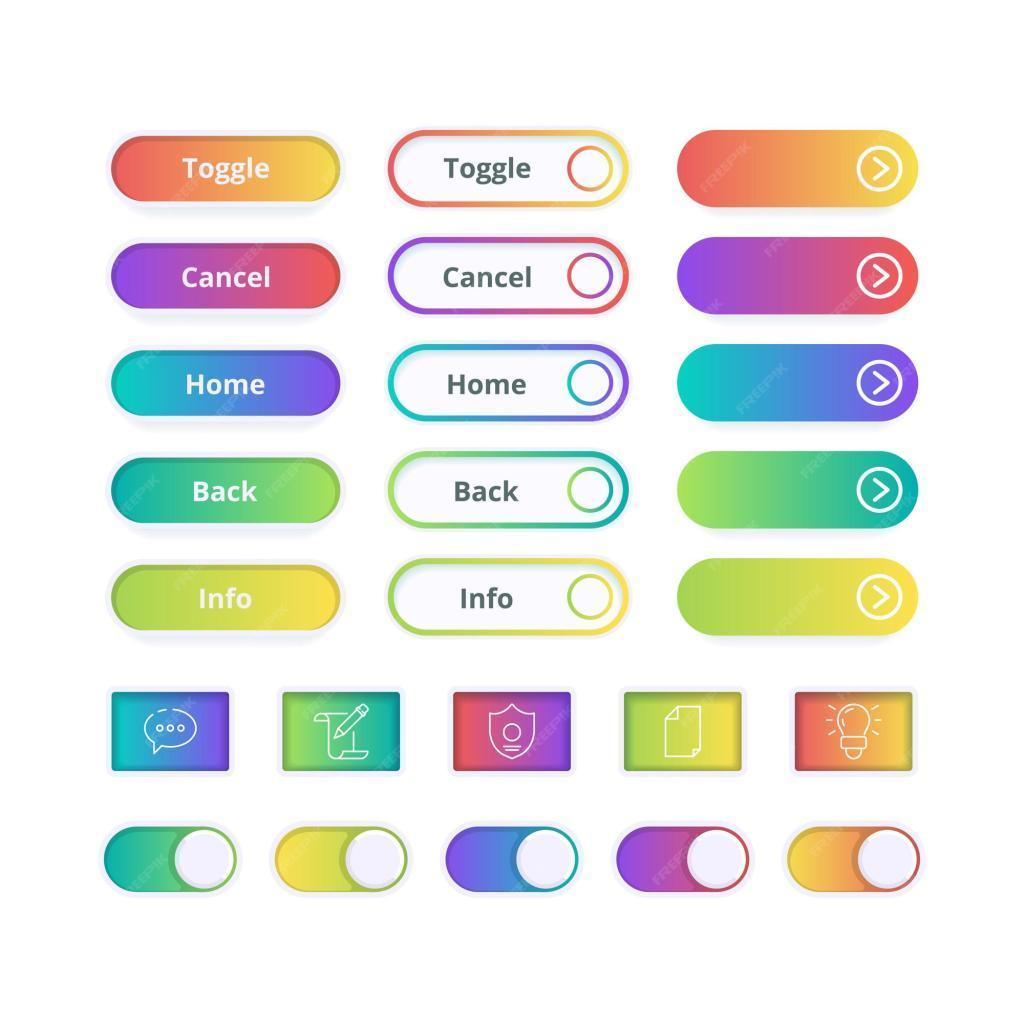button: (112, 132, 347, 207), (111, 348, 344, 420), (111, 242, 343, 311), (111, 457, 343, 526), (111, 564, 338, 633)
radio: (564, 465, 616, 520), (568, 251, 614, 306), (568, 144, 614, 195), (567, 358, 612, 409), (571, 572, 614, 623)
switch: (106, 824, 238, 895), (790, 829, 922, 896), (618, 827, 749, 893), (447, 827, 576, 893), (278, 829, 407, 893)
